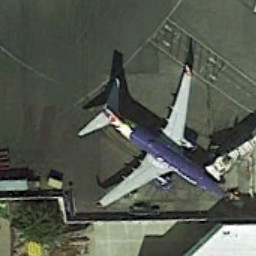Airplane: (55, 60, 242, 226)
